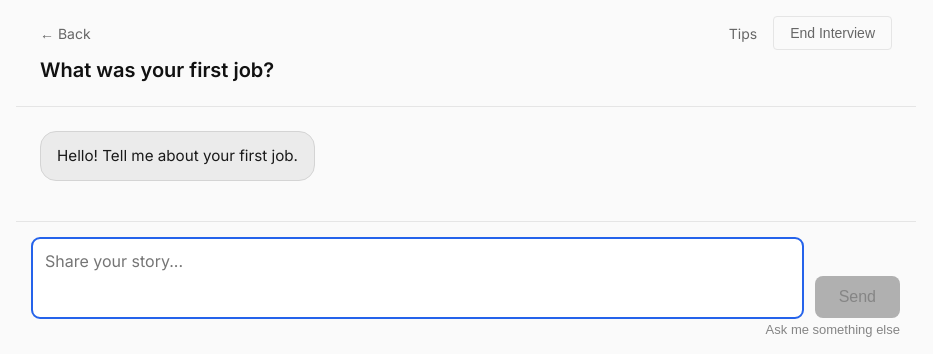
InterviewSession › End Interview button › disables End Interview button while mutation is pending
Click the button "End Interview" at (833, 33), box [773,16,892,50]
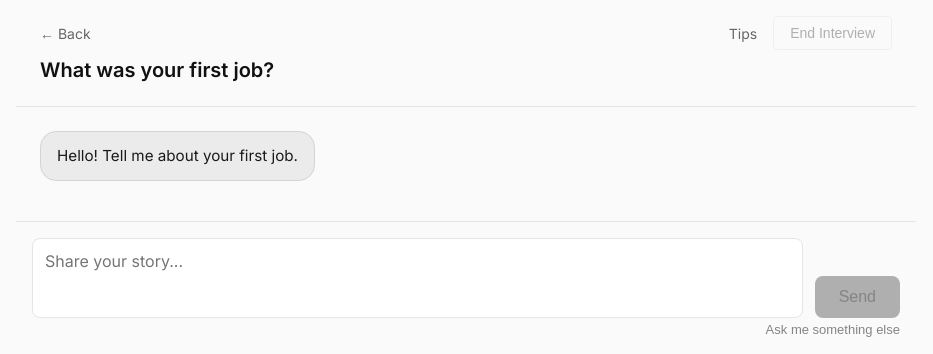
Check: the button "End Interview" is disabled, box [773,16,892,50]
